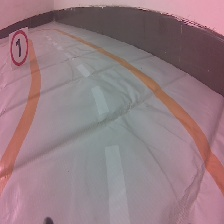limit: (8, 26, 30, 72)
